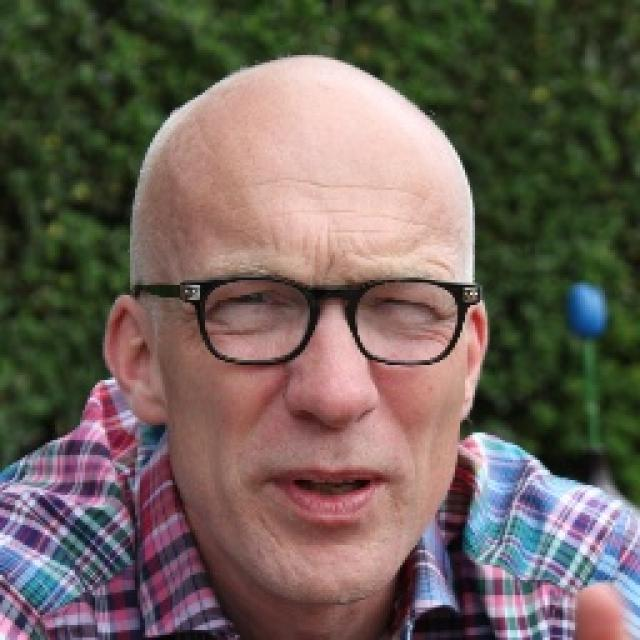earlobe: (102, 294, 170, 426), (457, 292, 488, 421)
